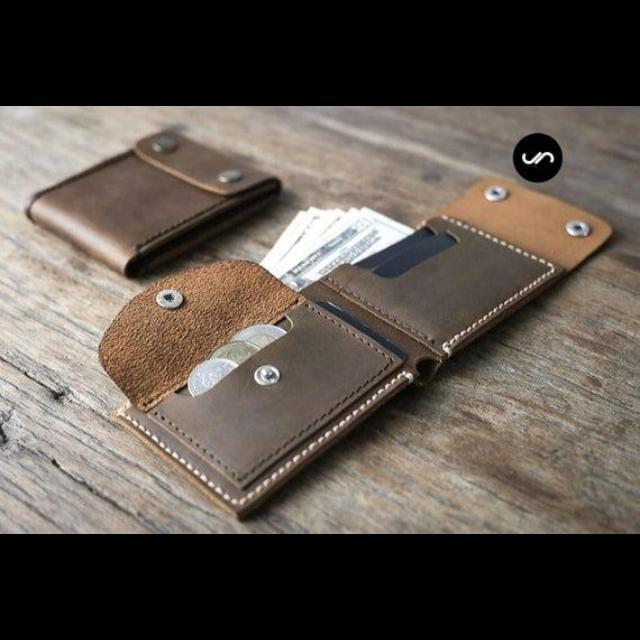Wallet: (99, 180, 611, 516), (27, 132, 282, 276)
